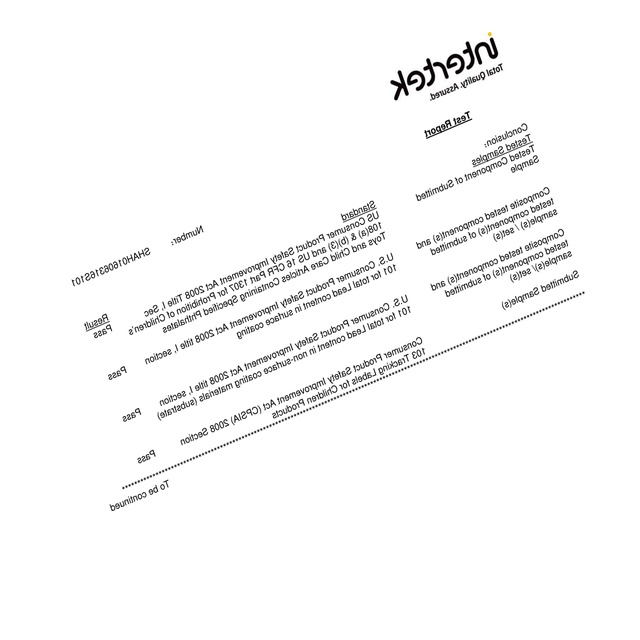intertek: (387, 28, 510, 102)
